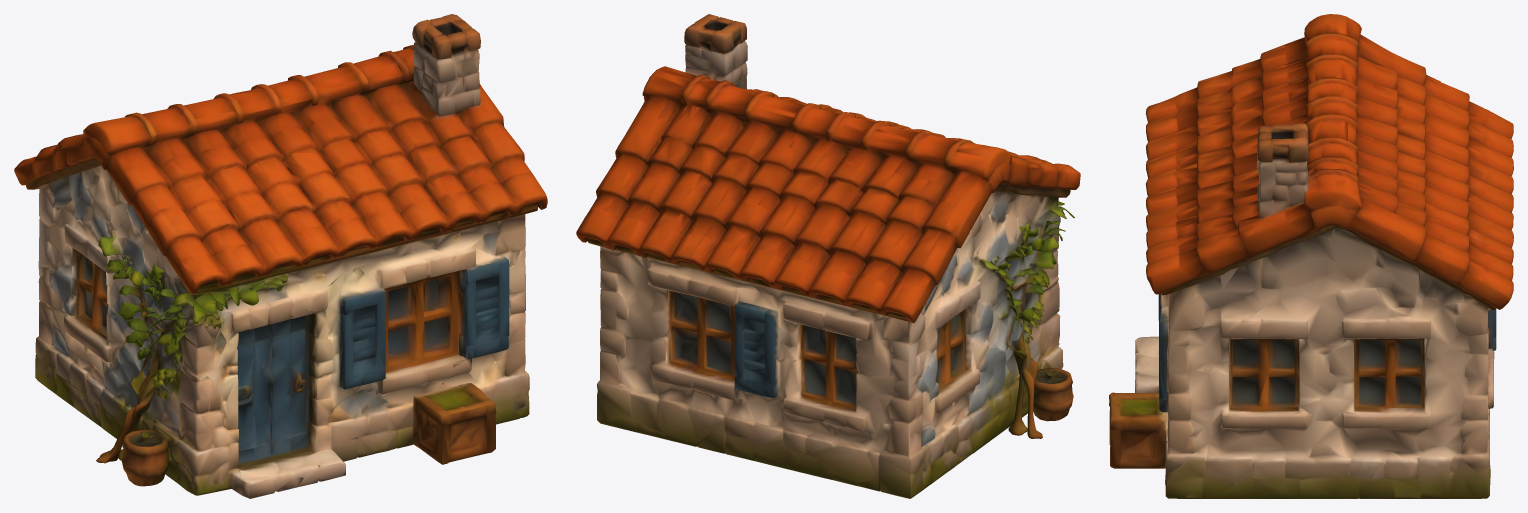
File: Piece02.fbx
3 renders of one model, left to right at view 1: azimuth 30°, elevation 25°; view 2: azimuth 150°, elevation 25°; view 3: azimuth 270°, elevation 25°, orthographic. The views are drawn at different scales.
Parts seen in each view (by area): view 1: Piece02; view 2: Piece02; view 3: Piece02.
Part boxes in pixels (<box>): Piece02: <box>14,14,547,498</box>; Piece02: <box>576,14,1080,498</box>; Piece02: <box>1109,14,1513,498</box>.
Size of the model in its own units: 99.98 by 86.53 by 89.29.
Materials: 1 (1 with a texture image).
